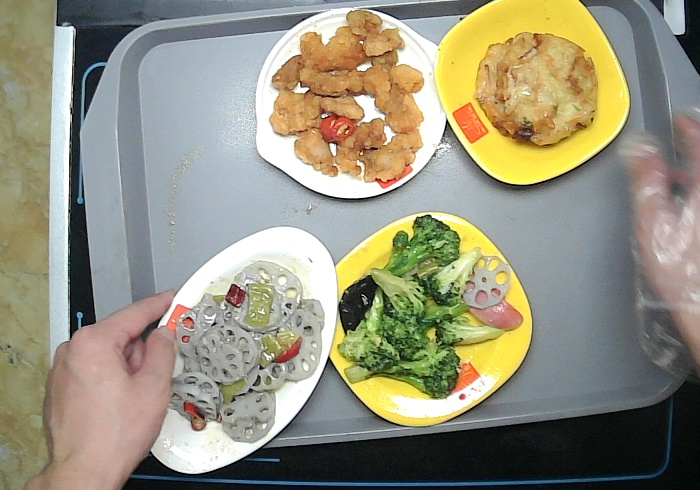SHKJ-Bao_Yu_Pan: (254, 9, 449, 201)
SHKJ-Huang_Se_Cai_Die: (433, 1, 632, 188)
SHKJ-Huang_Se_Si_Fang_Cai_Die: (326, 209, 534, 428)
SHKJ-Yu_Pan: (142, 223, 337, 476)
